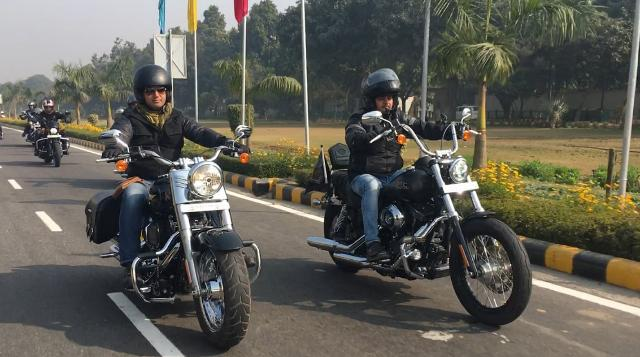licensePlate: (177, 200, 234, 216), (442, 179, 481, 193), (46, 135, 62, 139)
motorcycle: (306, 52, 540, 325), (95, 57, 263, 352), (26, 93, 78, 166)
withHelmet: (360, 67, 408, 114), (128, 66, 179, 109), (38, 97, 55, 111)
